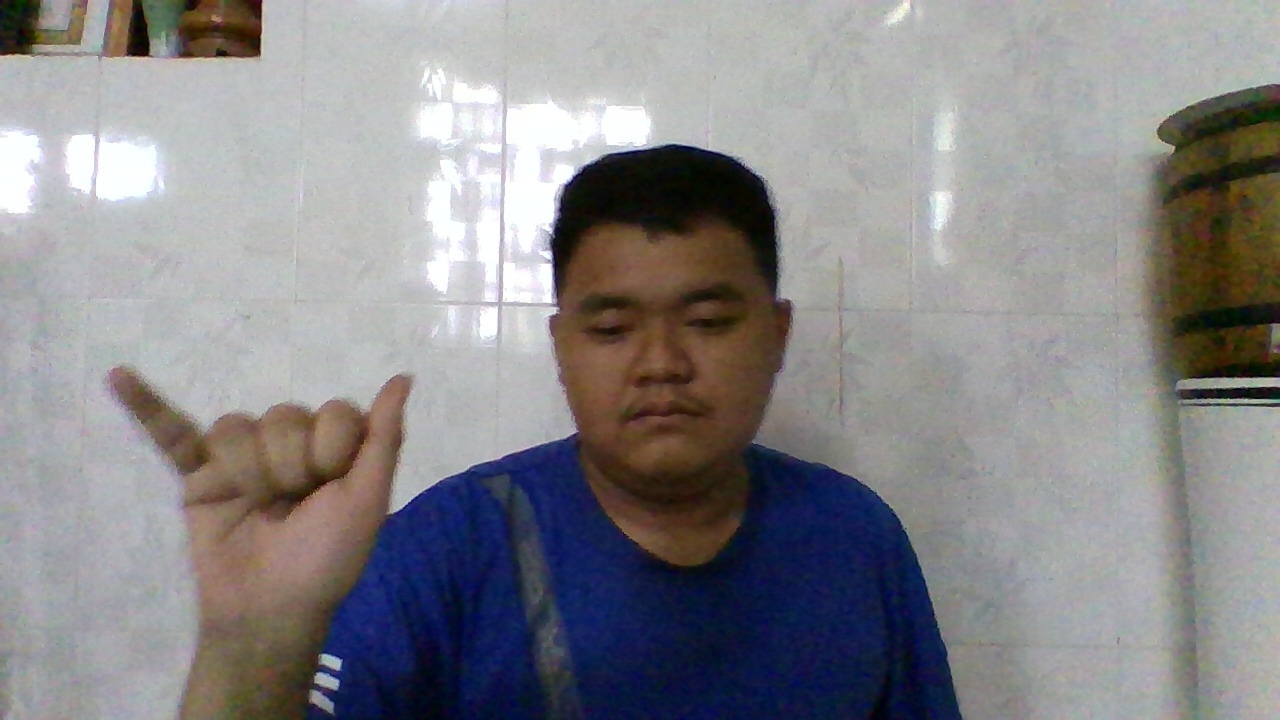Y: (106, 357, 411, 634)
